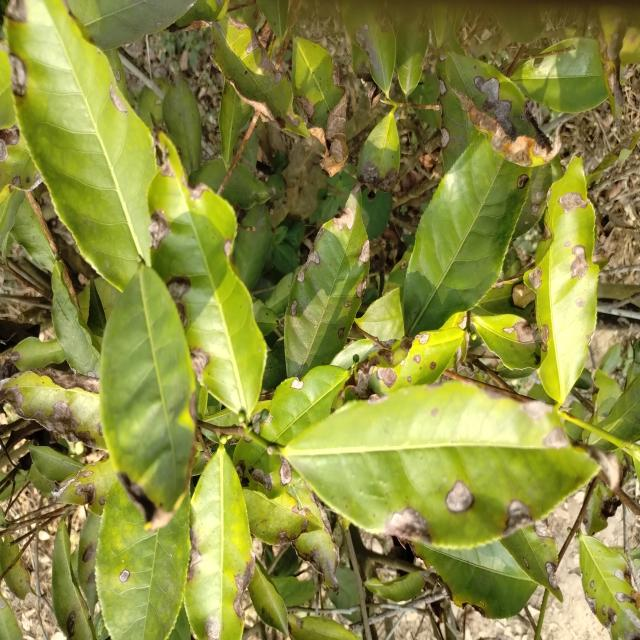Leaf: (282, 382, 598, 548), (5, 0, 155, 290), (148, 134, 266, 414), (99, 265, 196, 530), (403, 135, 531, 334), (524, 157, 598, 403), (284, 184, 369, 377), (96, 482, 190, 640), (184, 445, 255, 640), (446, 53, 560, 165), (212, 17, 308, 136), (414, 541, 536, 618), (0, 368, 106, 449), (292, 37, 348, 176), (511, 37, 607, 113), (260, 365, 349, 445), (578, 533, 640, 640), (366, 329, 462, 395), (69, 0, 195, 49), (288, 480, 339, 593), (52, 259, 100, 376), (341, 0, 396, 97), (499, 521, 563, 602), (52, 520, 95, 640), (243, 488, 319, 545), (234, 438, 300, 497), (163, 75, 202, 174), (52, 456, 117, 515), (472, 313, 539, 369), (11, 192, 57, 272), (233, 203, 272, 292), (357, 111, 400, 191), (218, 80, 253, 169), (248, 560, 288, 636), (396, 12, 429, 96), (599, 374, 640, 441), (355, 288, 404, 343), (77, 513, 101, 618), (222, 163, 275, 210), (29, 444, 83, 482), (364, 571, 426, 602), (10, 337, 65, 371), (288, 614, 358, 640), (362, 188, 392, 240), (273, 576, 315, 608), (5, 555, 32, 599), (190, 159, 225, 190), (0, 592, 22, 640), (252, 298, 278, 336), (0, 534, 19, 571), (588, 435, 613, 449)
